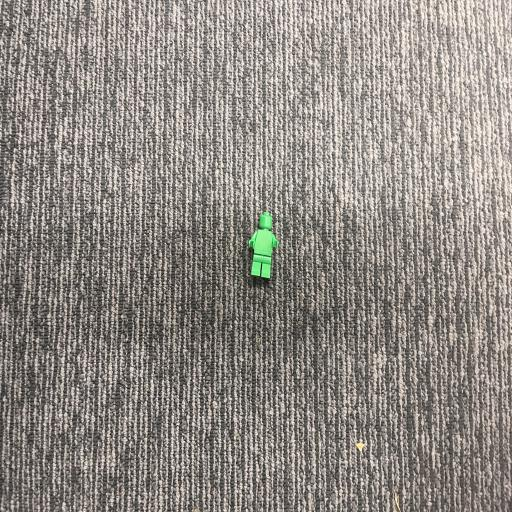Lego-Minifig: (249, 212, 279, 278)
